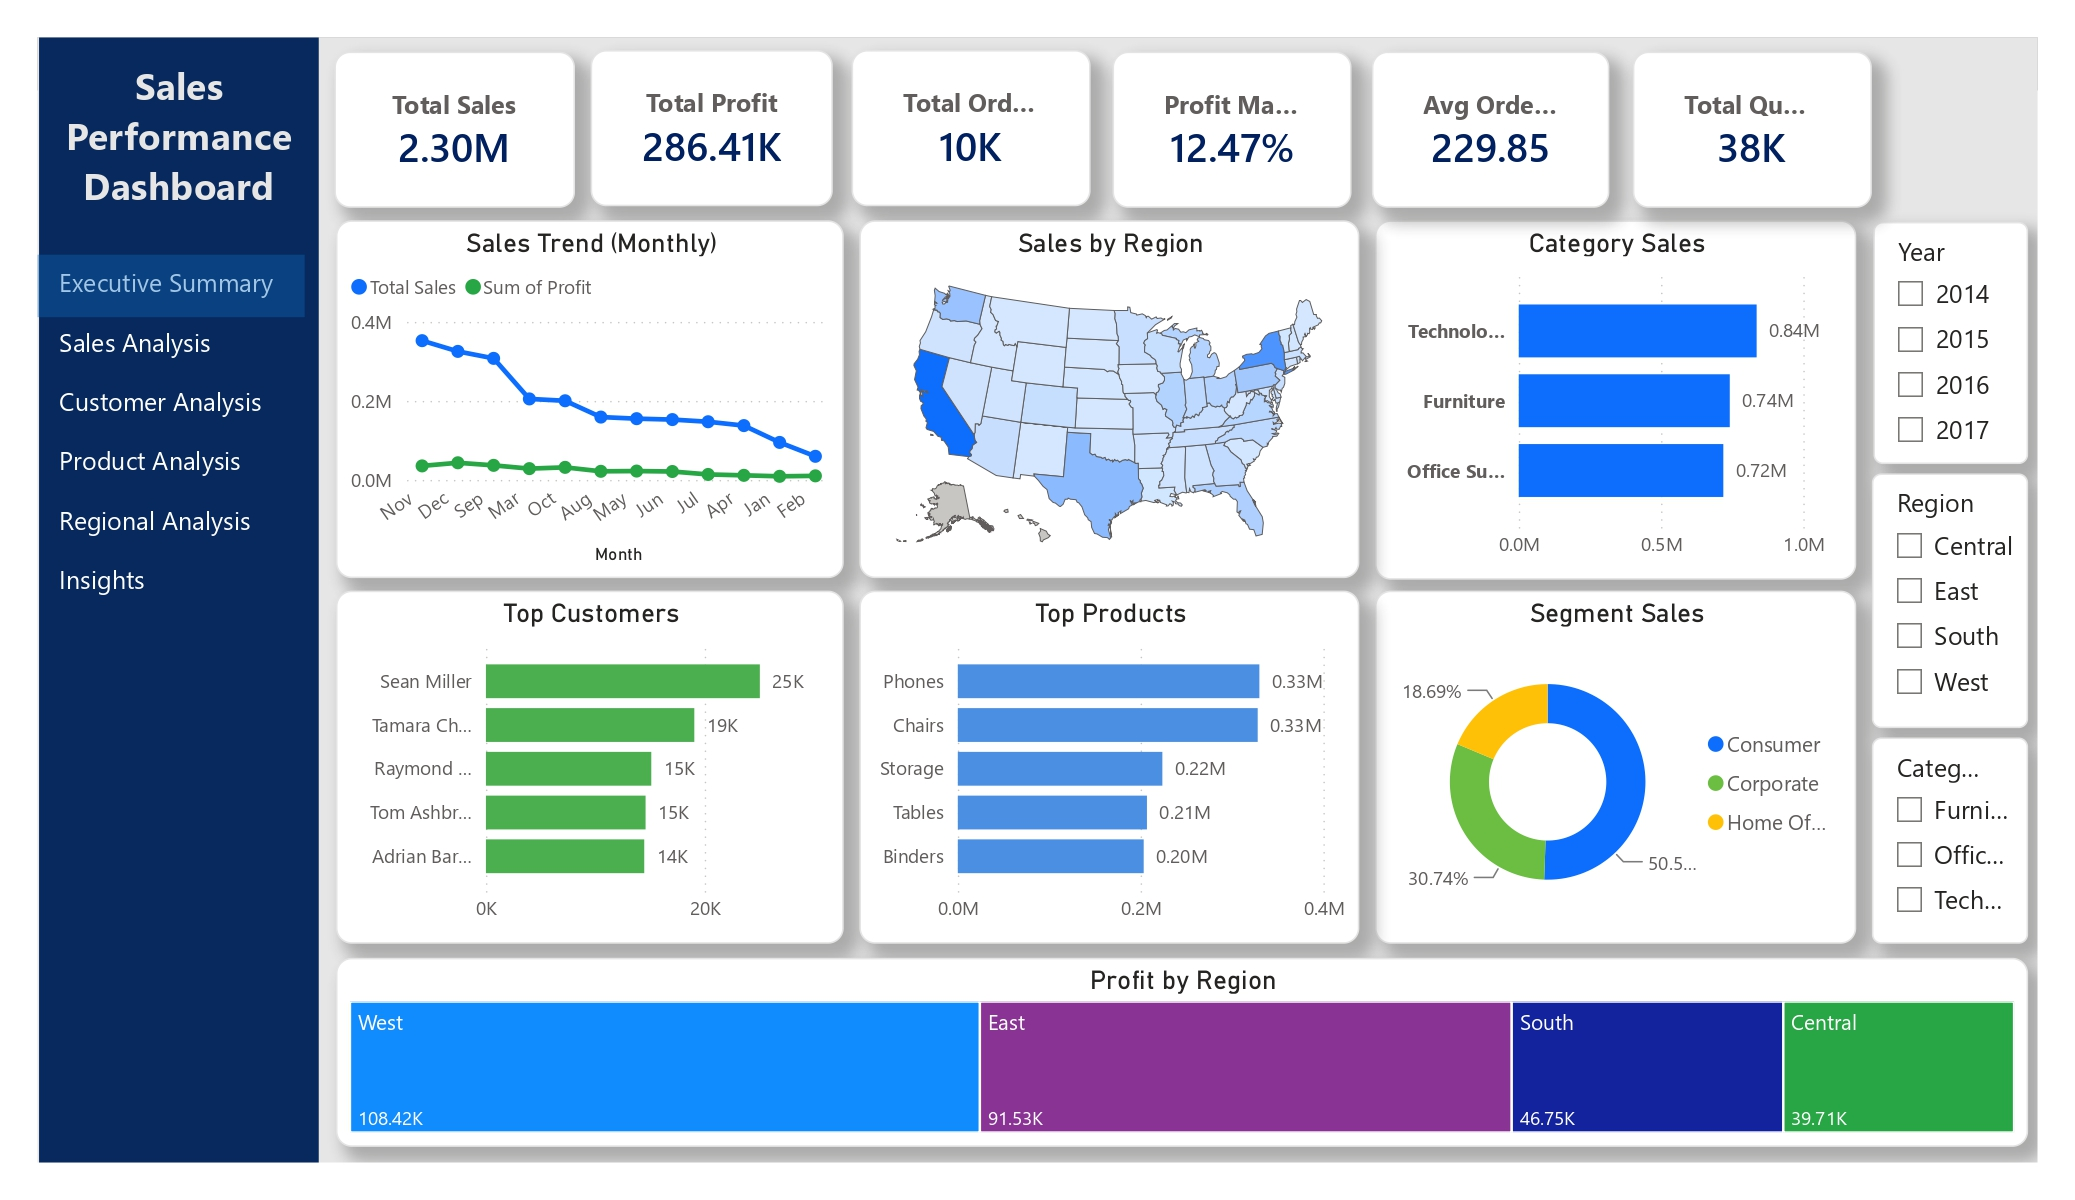

Layout of this report page (visuals, bound fields, positions):
{"tool":"powerbi","page":{"name":"Page 1","canvas":[1280,720],"ordinal":0},"visuals":[{"type":"cardVisual","title":"Total Sales","fields":{"Data":["Store Data.Total Sales"]},"box":[189.8,8.8,153.8,100],"z":0},{"type":"cardVisual","fields":{"Data":["Store Data.Total Profit"]},"box":[354,8.3,155,100],"z":1000},{"type":"cardVisual","fields":{"Data":["Store Data.Total Orders"]},"box":[521.5,8.3,152.5,100],"z":2000},{"type":"cardVisual","fields":{"Data":["Store Data.Profit Margin"]},"box":[687.5,8.8,153.8,100],"z":3000},{"type":"clusteredBarChart","title":"Category Sales","fields":{"Category":["Store Data.Category"],"Y":["Store Data.Total Sales"]},"box":[856.2,117.2,307.5,230],"z":4000},{"type":"lineChart","title":"Sales Trend (Monthly)","fields":{"Y":["Store Data.Total Sales","Sum(Store Data.Profit)"],"Category":["DateTable.Month"]},"box":[190.9,117.2,325,228.8],"z":5000},{"type":"shapeMap","title":"Sales by Region","fields":{"Category":["Store Data.State"],"Value":["Sum(Store Data.Sales)"]},"box":[526.2,117.2,320,228.8],"z":6000},{"type":"donutChart","title":"Segment Sales","fields":{"Y":["Store Data.Total Sales"],"Category":["Store Data.Segment"]},"box":[856.5,353.5,307.5,226.2],"z":7000},{"type":"slicer","fields":{"Values":["DateTable.Year"]},"box":[1175,117.5,98.8,155],"z":8000},{"type":"slicer","fields":{"Values":["Store Data.Region"]},"box":[1173.9,278.7,100.1,162.9],"z":9000},{"type":"slicer","fields":{"Values":["Store Data.Category"]},"box":[1173.8,447.5,100,132.5],"z":10000},{"type":"shape","box":[1.4,0,178.6,720],"z":11000},{"type":"textbox","box":[8.8,141.2,162.5,237.5],"z":12000},{"type":"cardVisual","fields":{"Data":["Store Data.Avg Order Value"]},"box":[853.8,8.8,152.5,100],"z":13000},{"type":"cardVisual","fields":{"Data":["Store Data.Total Quantity"]},"box":[1021.2,8.8,152.5,100],"z":14000},{"type":"clusteredBarChart","title":"Top Customers","fields":{"Category":["Store Data.Customer Name"],"Y":["Store Data.Total Sales"]},"box":[191.2,353.5,325,226.2],"z":15000},{"type":"clusteredBarChart","title":"Top Products","fields":{"Category":["Store Data.Sub-Category"],"Y":["Sum(Store Data.Sales)"]},"box":[526.5,353.5,320,226.2],"z":16000},{"type":"treemap","title":"Profit by Region","fields":{"Values":["Sum(Store Data.Profit)"],"Group":["Store Data.Region"]},"box":[191.2,588.8,1082.5,121.2],"z":17000},{"type":"shape","box":[0,138.8,171.2,40],"z":18000},{"type":"textbox","box":[7.1,8.6,167.1,110],"z":19000},{"type":"shape","box":[0,178.6,171.3,39.8],"z":20000},{"type":"shape","box":[0,218.4,171.3,39.8],"z":21000},{"type":"shape","box":[0,255.8,171.3,39.8],"z":22000},{"type":"shape","box":[0,295.6,171.3,39.8],"z":23000},{"type":"shape","box":[0,335.4,171.3,39.8],"z":24000}]}

Visuals, with their boxes on the page's 1280x720 design canvas (x1, y1, x2, y2). These are canvas units, not pixel positions in the 2075x1200 screenshot, which may show the page scaled, cropped or inside an application window:
"Total Sales" cardVisual: bbox=(190, 9, 344, 109)
cardVisual - Store Data.Total Profit: bbox=(354, 8, 509, 108)
cardVisual - Store Data.Total Orders: bbox=(522, 8, 674, 108)
cardVisual - Store Data.Profit Margin: bbox=(688, 9, 841, 109)
"Category Sales" clusteredBarChart: bbox=(856, 117, 1164, 347)
"Sales Trend (Monthly)" lineChart: bbox=(191, 117, 516, 346)
"Sales by Region" shapeMap: bbox=(526, 117, 846, 346)
"Segment Sales" donutChart: bbox=(856, 354, 1164, 580)
slicer - DateTable.Year: bbox=(1175, 118, 1274, 272)
slicer - Store Data.Region: bbox=(1174, 279, 1274, 442)
slicer - Store Data.Category: bbox=(1174, 448, 1274, 580)
shape: bbox=(1, 0, 180, 720)
textbox: bbox=(9, 141, 171, 379)
cardVisual - Store Data.Avg Order Value: bbox=(854, 9, 1006, 109)
cardVisual - Store Data.Total Quantity: bbox=(1021, 9, 1174, 109)
"Top Customers" clusteredBarChart: bbox=(191, 354, 516, 580)
"Top Products" clusteredBarChart: bbox=(526, 354, 846, 580)
"Profit by Region" treemap: bbox=(191, 589, 1274, 710)
shape: bbox=(0, 139, 171, 179)
textbox: bbox=(7, 9, 174, 119)
shape: bbox=(0, 179, 171, 218)
shape: bbox=(0, 218, 171, 258)
shape: bbox=(0, 256, 171, 296)
shape: bbox=(0, 296, 171, 335)
shape: bbox=(0, 335, 171, 375)
